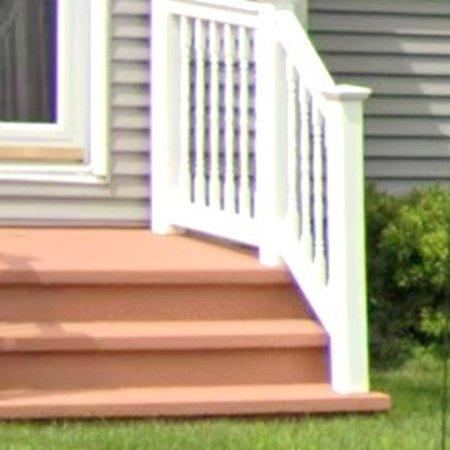stairs: (0, 229, 391, 419)
